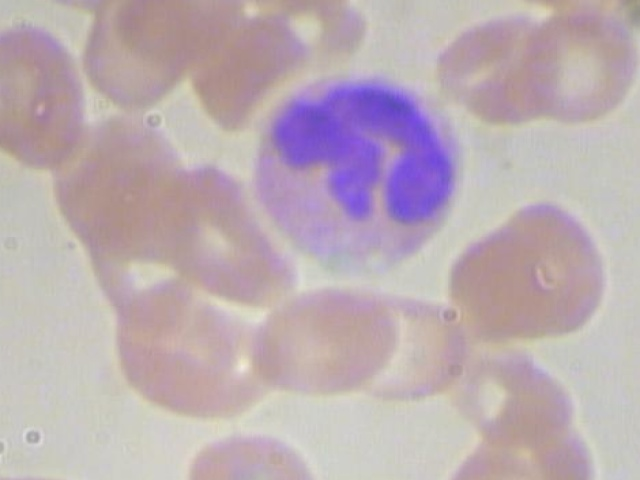RBC: (486, 190, 620, 341), (246, 281, 401, 398), (421, 6, 560, 126), (515, 8, 640, 129), (0, 19, 90, 171)
WBC: (249, 68, 466, 283)
